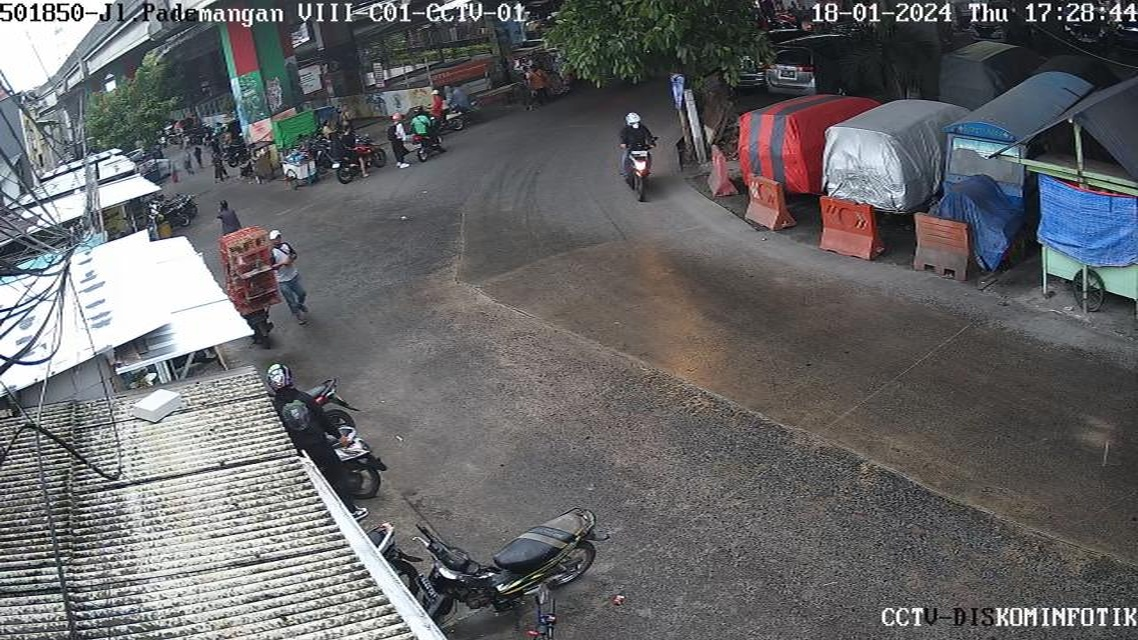Gerobak: (1030, 83, 1138, 310), (933, 118, 1030, 275), (261, 137, 325, 199)
